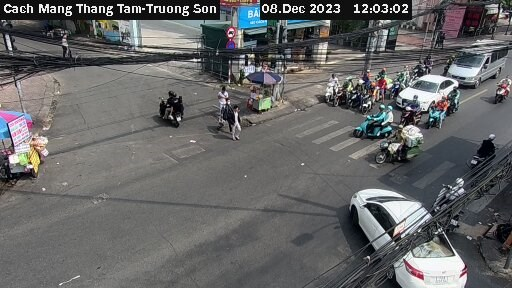car: (449, 39, 508, 89), (395, 74, 455, 109)
motorbike: (432, 178, 480, 224), (375, 131, 430, 167), (459, 135, 499, 169), (151, 92, 190, 125), (361, 109, 396, 139), (400, 100, 427, 128), (427, 97, 451, 128), (318, 76, 345, 102), (488, 78, 512, 105), (443, 86, 467, 112)
